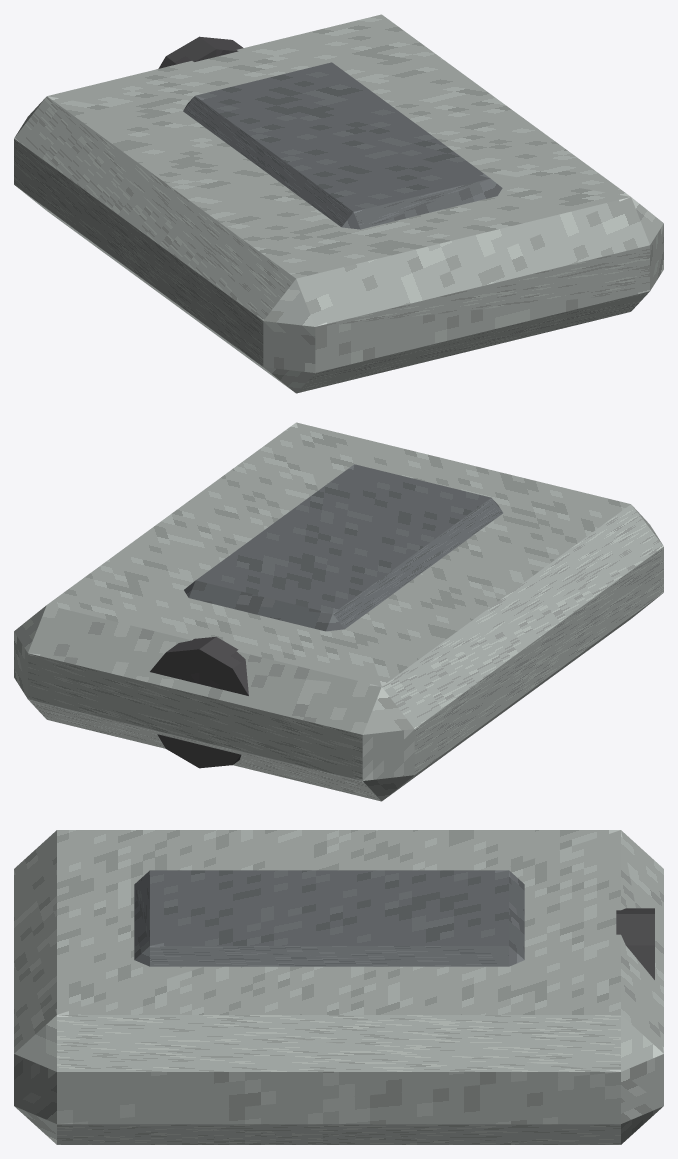
The model's file is sharpener.glb.
3 renders of one model, top to bottom at view 1: azimuth 30°, elevation 25°; view 2: azimuth 150°, elevation 25°; view 3: azimuth 270°, elevation 25°, orthographic. The views are drawn at different scales.
Parts seen in each view (by area): view 1: block_pencil sharpener body, block_blade mount, block_pencil opening; view 2: block_pencil sharpener body, block_blade mount, block_pencil opening; view 3: block_pencil sharpener body, block_blade mount, block_pencil opening.
Boxes of the visible parts, bbox=[...] form: block_pencil sharpener body: bbox=[14, 14, 663, 393]; block_blade mount: bbox=[183, 62, 502, 229]; block_pencil opening: bbox=[158, 36, 243, 68]; block_pencil sharpener body: bbox=[14, 422, 663, 801]; block_blade mount: bbox=[184, 464, 502, 631]; block_pencil opening: bbox=[150, 636, 248, 768]; block_pencil sharpener body: bbox=[14, 830, 663, 1144]; block_blade mount: bbox=[134, 870, 524, 966]; block_pencil opening: bbox=[616, 908, 654, 979].
Bounding box in the file's own units: 0.033 × 0.01 × 0.0409.
Materials: 1 (1 with a texture image).
